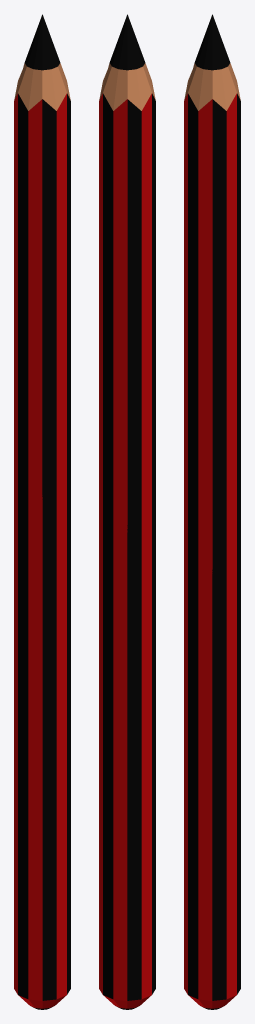
Rendered from Pencil.fbx.
The picture shows the model from 3 angles, left to right: view 1: azimuth 90°, elevation 25°; view 2: azimuth 210°, elevation 25°; view 3: azimuth 270°, elevation 25°; orthographic projection.
Visible parts, largest first — view 1: Cylinder; view 2: Cylinder; view 3: Cylinder.
Part boxes in pixels (box(x1,y1,x2,y2)): Cylinder: box(14, 14, 70, 1009); Cylinder: box(99, 14, 155, 1009); Cylinder: box(184, 14, 240, 1009).
Bounding box in the file's own units: 37.15 × 717 × 37.15.
